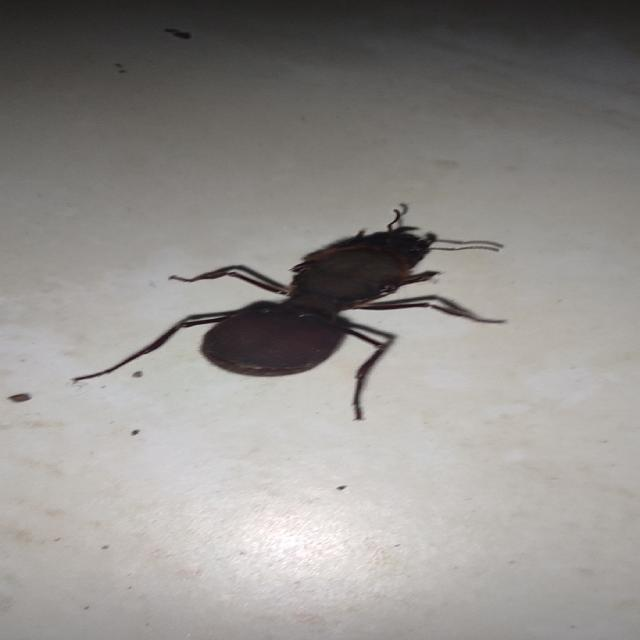Alive-Female-Dealate: (72, 208, 508, 422)
